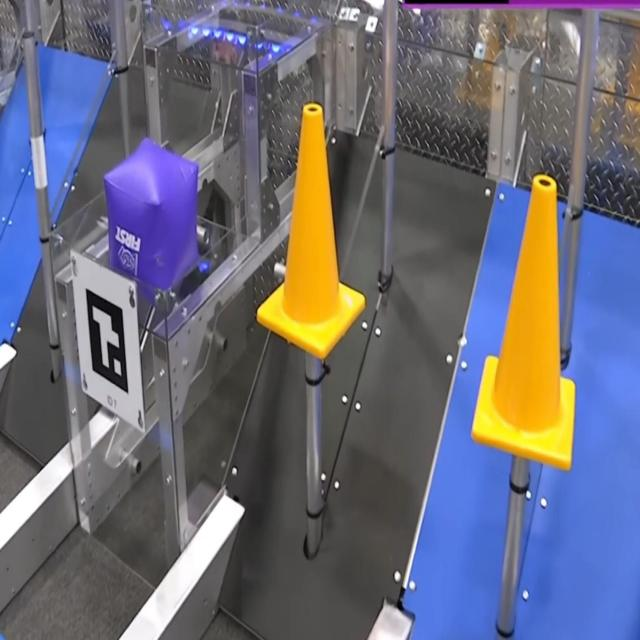frc_cone: (469, 174, 579, 474), (259, 106, 366, 356)
frc_cube: (99, 132, 200, 308)
